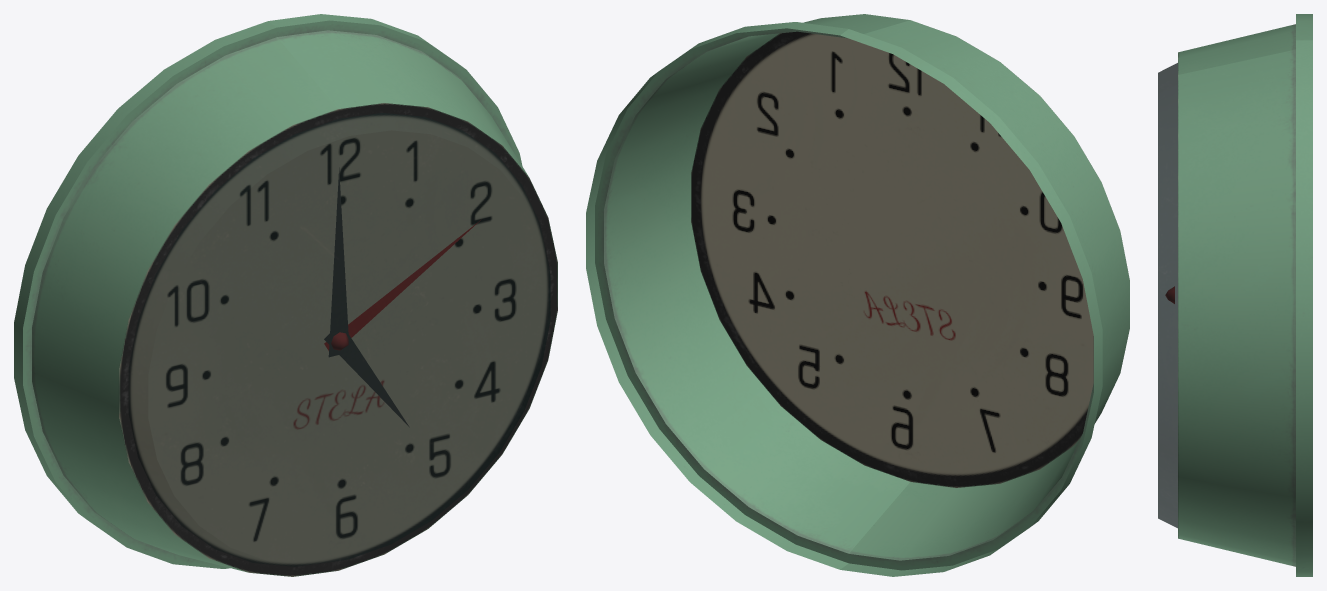
The model's file is ClockSingle.FBX.
3 renders of one model, left to right at view 1: azimuth 30°, elevation 25°; view 2: azimuth 150°, elevation 25°; view 3: azimuth 270°, elevation 25°, orthographic. The views are drawn at different scales.
Parts seen in each view (by area): view 1: ClockSingle, Glass, Minutes, Seconds, Hours; view 2: ClockSingle; view 3: ClockSingle, Glass.
Part boxes in pixels (<box>): ClockSingle: <box>14,14,557,576</box>; Glass: <box>128,113,550,566</box>; Minutes: <box>328,168,349,357</box>; Seconds: <box>324,220,480,350</box>; Hours: <box>324,333,408,426</box>; ClockSingle: <box>586,14,1129,576</box>; ClockSingle: <box>1165,14,1312,576</box>; Glass: <box>1158,63,1177,528</box>.
Bounding box in the file's own units: 27.74 × 27.89 × 7.67.
